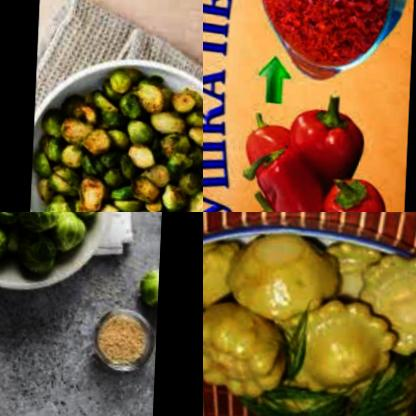bell pepper: (282, 81, 377, 188), (255, 0, 396, 62), (256, 143, 329, 212), (241, 104, 299, 179), (321, 166, 391, 212), (248, 186, 342, 212)
brus capusta: (29, 55, 203, 212), (0, 212, 104, 270), (138, 248, 162, 305)
squash-patisson: (233, 227, 344, 331), (283, 298, 402, 392), (203, 297, 290, 403), (363, 242, 416, 361), (203, 233, 246, 310)
